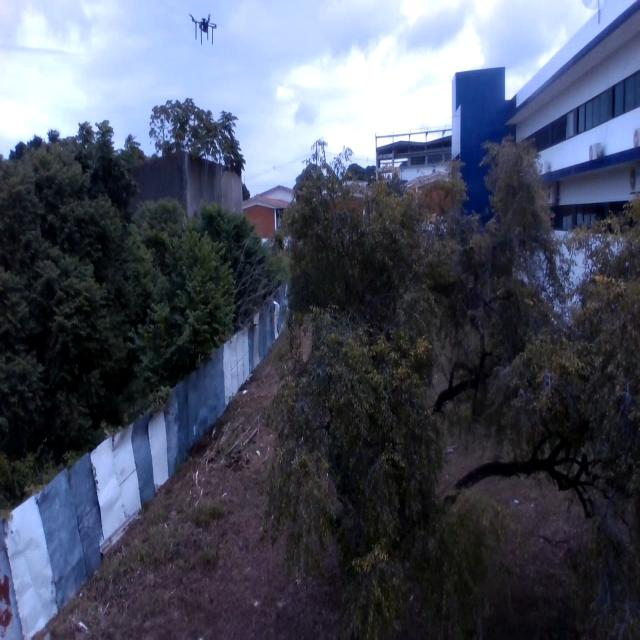-uav-: (191, 4, 225, 55)
